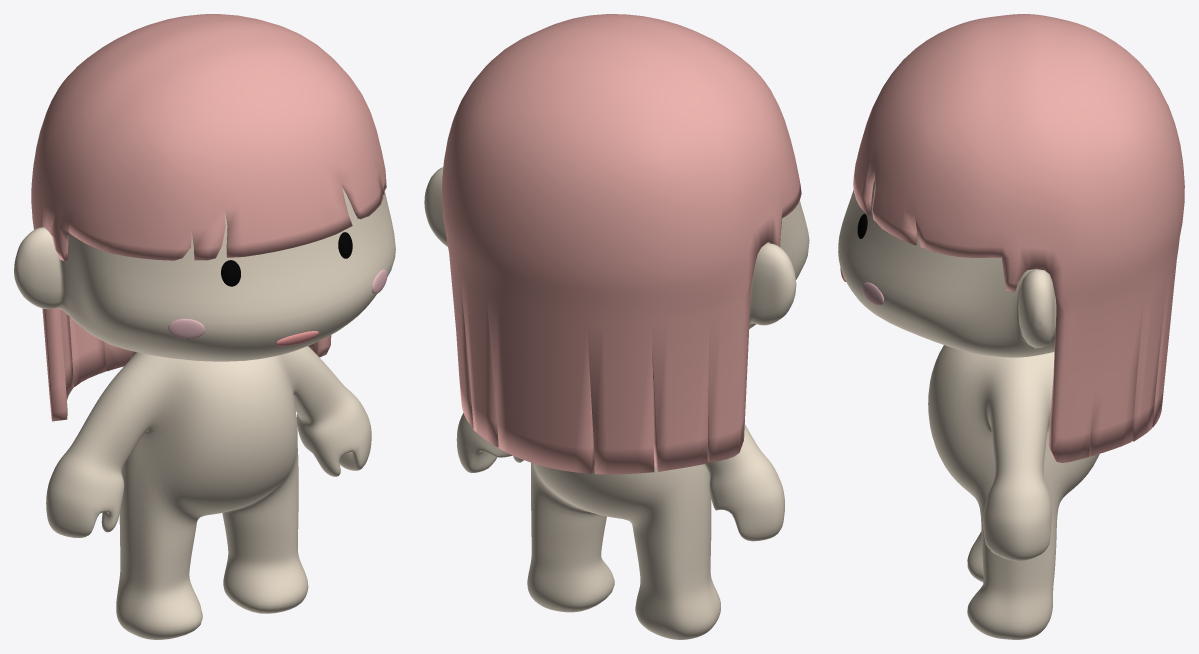
The model's file is Girllll.fbx.
The picture shows the model from 3 angles, left to right: view 1: azimuth 30°, elevation 25°; view 2: azimuth 150°, elevation 25°; view 3: azimuth 270°, elevation 25°; orthographic projection. The views are drawn at different scales.
Parts seen in each view (by area): view 1: Cube.017, Cube.007, Cube.006, Sphere.001, Sphere; view 2: Cube.017, Cube.007, Cube.006; view 3: Cube.017, Cube.007, Cube.006.
Boxes of the visible parts, x1,y1,x2,y2 form: Cube.017: (31,14,386,421); Cube.007: (46,346,371,639); Cube.006: (14,187,395,361); Sphere.001: (168,269,387,338); Sphere: (221,232,352,286); Cube.017: (441,14,801,474); Cube.007: (456,413,784,639); Cube.006: (424,167,809,328); Cube.017: (853,14,1184,462); Cube.007: (928,345,1099,639); Cube.006: (838,179,1056,357).
Size of the model in its own units: 232 by 352 by 194.
